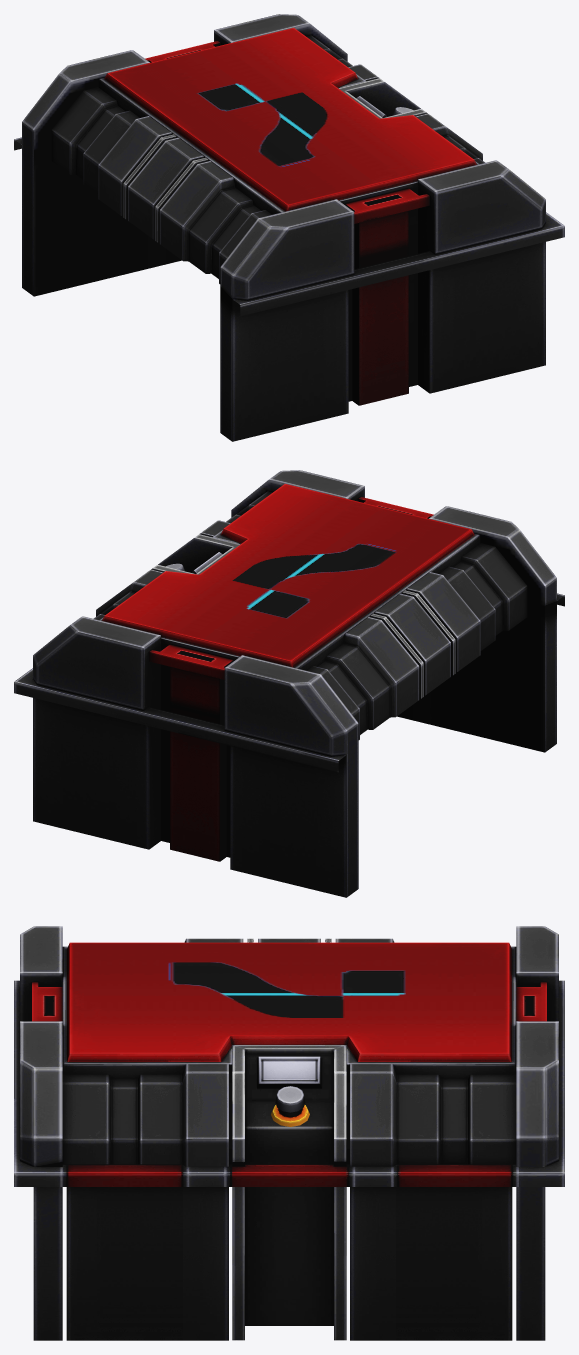
The model's file is trap_209_mufrbs.fbx.
The picture shows the model from 3 angles, top to bottom: view 1: azimuth 30°, elevation 25°; view 2: azimuth 150°, elevation 25°; view 3: azimuth 270°, elevation 25°; orthographic projection. The views are drawn at different scales.
Parts seen in each view (by area): view 1: trap_209_mufrbs; view 2: trap_209_mufrbs; view 3: trap_209_mufrbs.
Boxes of the visible parts, x1,y1,x2,y2 form: trap_209_mufrbs: (14,14,564,441); trap_209_mufrbs: (14,470,564,897); trap_209_mufrbs: (14,926,564,1340).
Size of the model in its own units: 0.5857 by 0.3593 by 0.708.
Materials: 1 (1 with a texture image).
